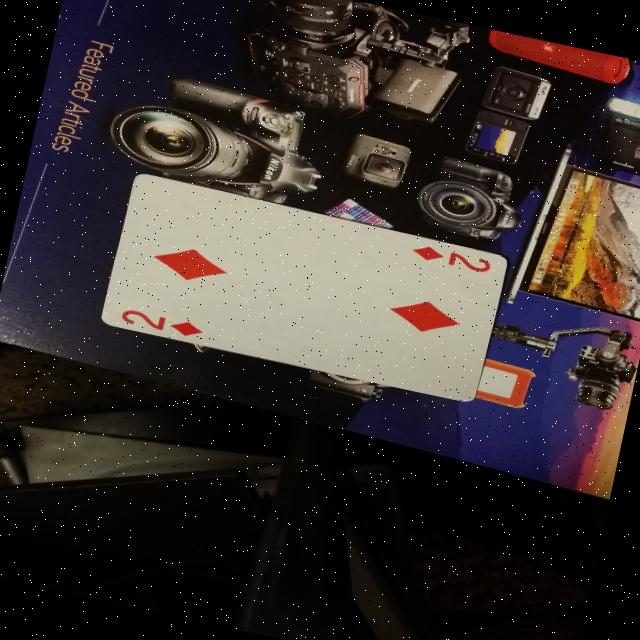2d: (398, 235, 500, 286), (116, 298, 215, 346)
